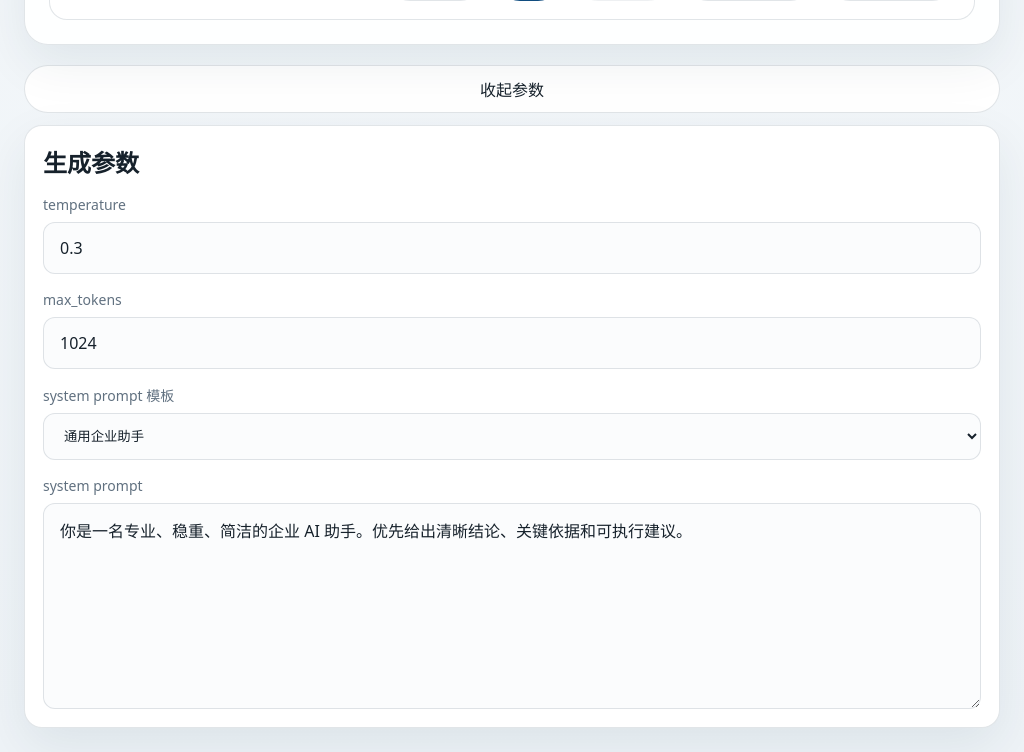
Test: ChatShell › updates the system prompt textarea when switching presets
The image size is (1024, 752).
(page scrolled)
Select "电力巡检图像分析助手" in the dropdown labelled "system prompt 模板" at (512, 436), box x1=43 y1=413 x2=981 y2=460
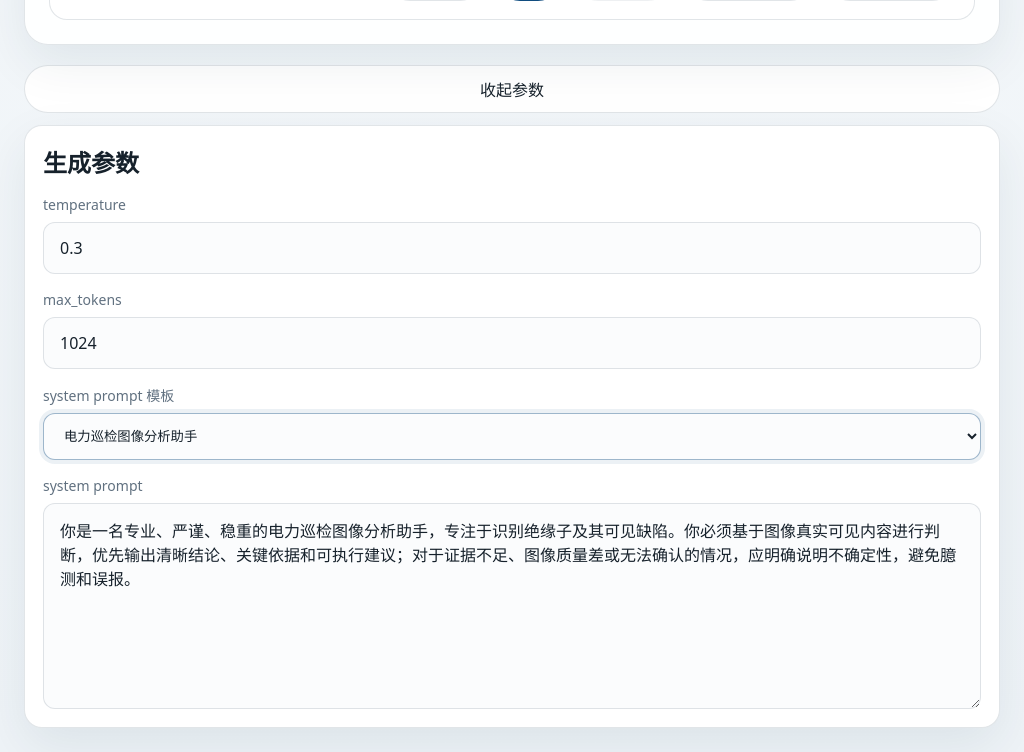
Now the text box labelled "system prompt" holds "你是一名专业、严谨、稳重的电力巡检图像分析助手，专注于识别绝缘子及其可见缺陷。你必须基于图像真实可见内容进行判断，优先输出清晰结论、关键依据和可执行建议；对于证据不足、图像质量差或无法确认的情况，应明确说明不确定性，避免臆测和误报。", box x1=43 y1=503 x2=981 y2=709
